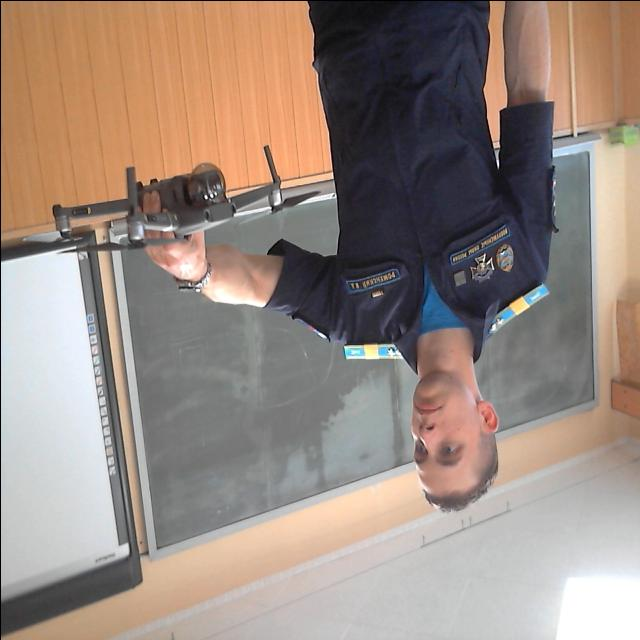drone: (0, 140, 344, 267)
